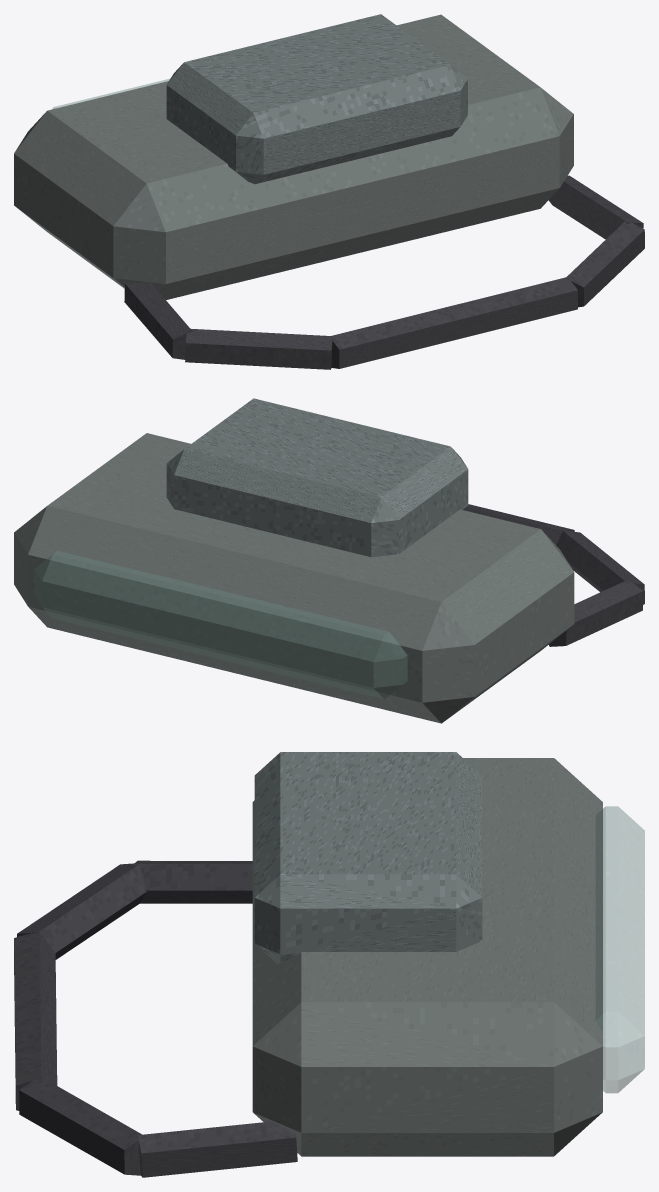
The model's file is military_vis_aug_system.glb.
3 views of the same model, one above another, from view 1: azimuth 30°, elevation 25°; view 2: azimuth 150°, elevation 25°; view 3: azimuth 270°, elevation 25° (orthographic). The views are drawn at different scales.
Visible parts, largest first — view 1: block_electronic headset shroud, block_forehead interface housing, block_headband 2, block_headband 1, block_headband 3, block_headband 0, block_headband 4; view 2: block_electronic headset shroud, block_forehead interface housing, block_wide dark visor, block_headband 0, block_headband 1, block_headband 2; view 3: block_electronic headset shroud, block_forehead interface housing, block_wide dark visor, block_headband 4, block_headband 2, block_headband 3, block_headband 1, block_headband 0.
Boxes of the visible parts, x1,y1,x2,y2 form: block_electronic headset shroud: (14, 14, 573, 299); block_forehead interface housing: (166, 14, 467, 184); block_headband 2: (329, 277, 577, 368); block_headband 1: (185, 328, 332, 369); block_headband 3: (565, 220, 644, 307); block_headband 0: (124, 283, 192, 359); block_headband 4: (548, 175, 643, 239); block_electronic headset shroud: (14, 433, 574, 723); block_forehead interface housing: (166, 398, 468, 557); block_wide dark visor: (34, 551, 407, 699); block_headband 0: (549, 580, 643, 646); block_headband 1: (556, 530, 644, 604); block_headband 2: (463, 504, 574, 544); block_electronic headset shroud: (252, 758, 602, 1156); block_forehead interface housing: (254, 752, 482, 963); block_wide dark visor: (595, 806, 644, 1093); block_headband 4: (137, 1121, 297, 1177); block_headband 2: (14, 930, 57, 1110); block_headband 3: (19, 1076, 145, 1175); block_headband 1: (17, 863, 147, 959); block_headband 0: (133, 860, 252, 903).
Bounding box in the file's own units: 0.2808 × 0.1027 × 0.2558.
2 materials, 2 textured.
